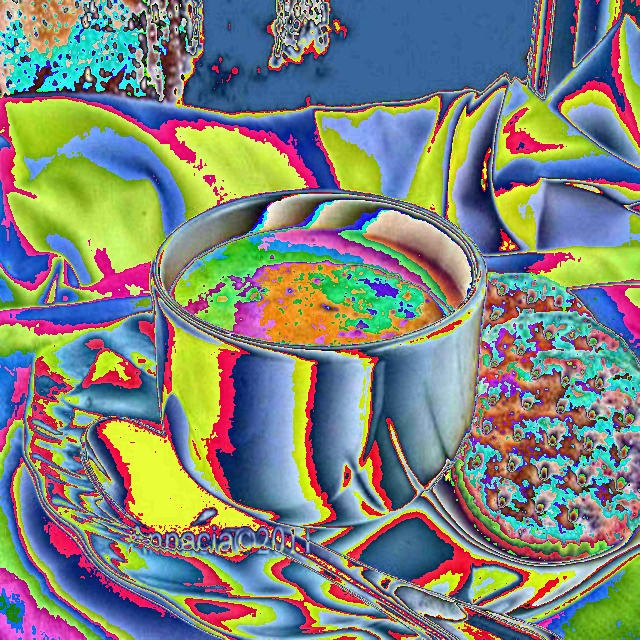background: (188, 268, 639, 563), (172, 122, 462, 347)
